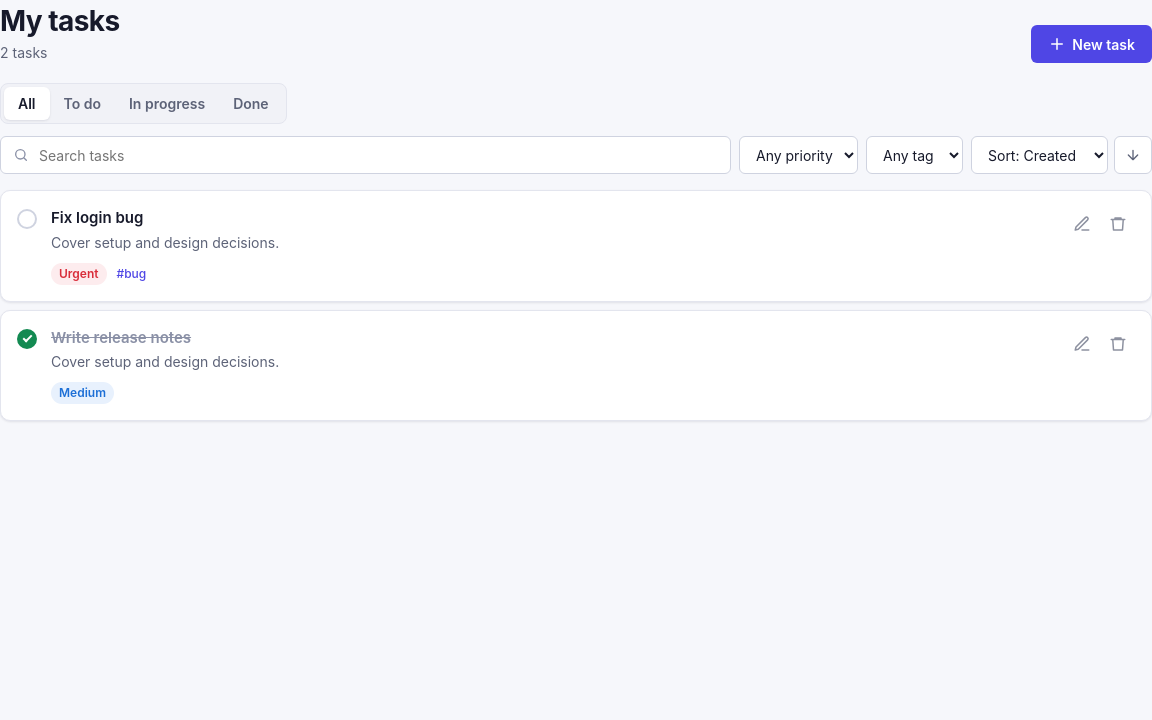
Test case: TasksPage › opens an empty create dialog and closes it on cancel
Expected: the heading "Fix login bug" is shown, [51,208,143,227]
Click the button "New task" at coordinates (1092, 44), box [1031,25,1151,63]
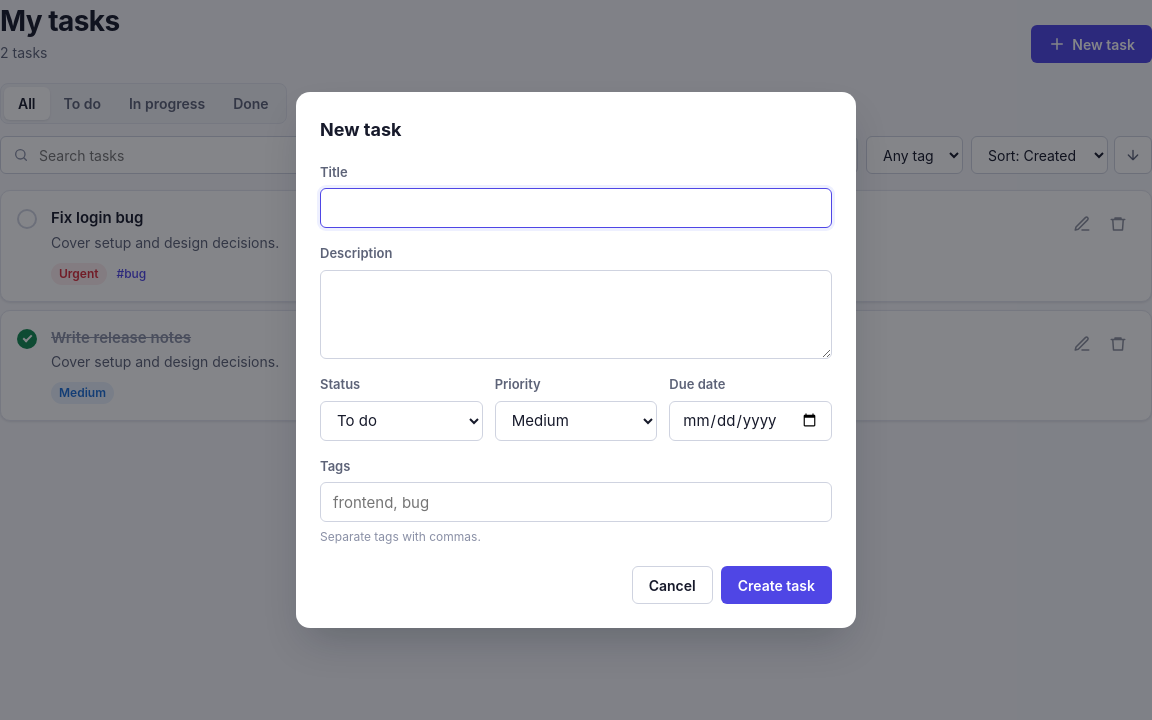
Expected: the field labelled "Title" is empty, [320,188,832,228]
Now the button "Create task" is shown, box [721,566,832,604]
Click the button "Cancel" at coordinates (672, 585), box [632,566,713,604]
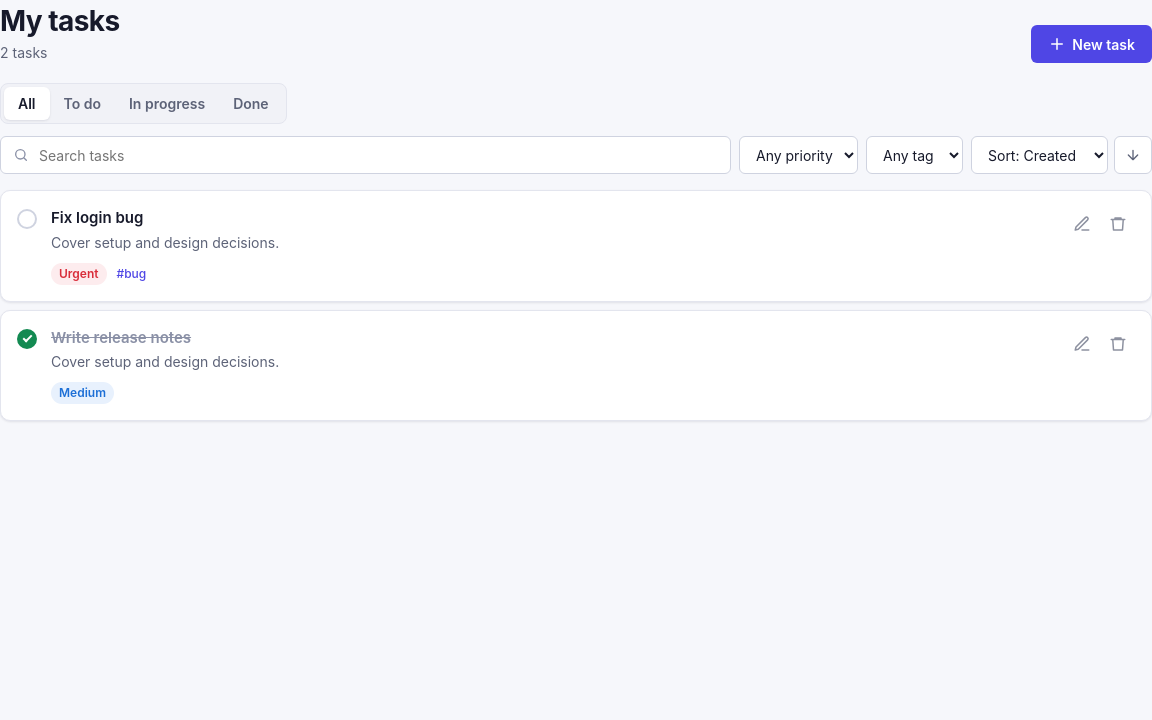
Now the dialog is gone
